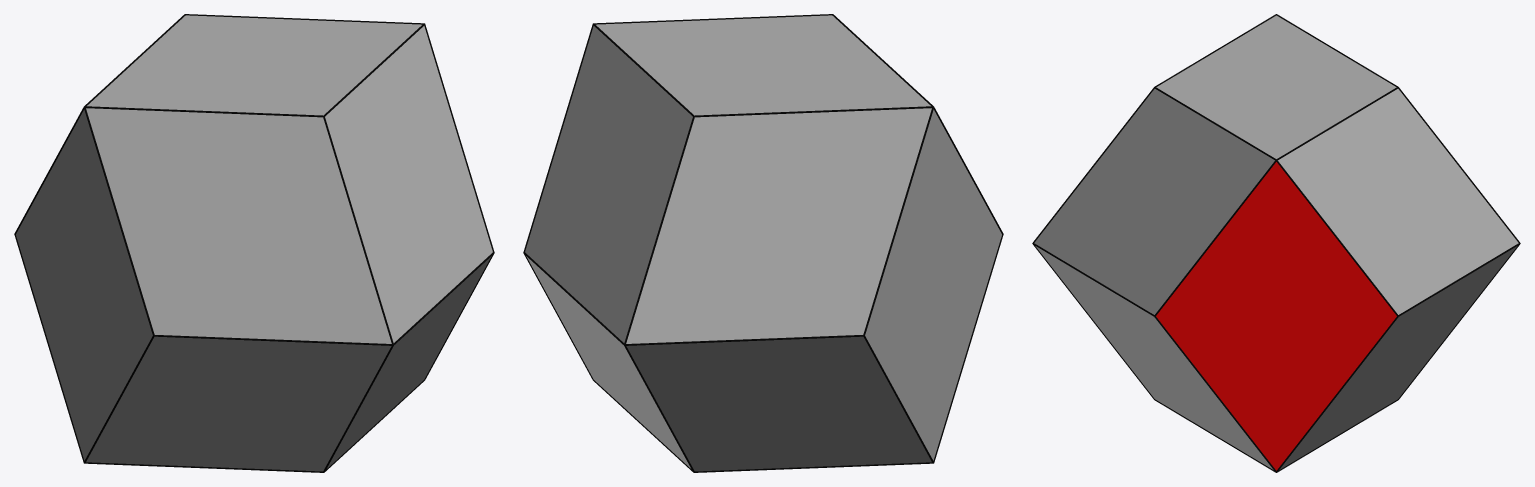
The model's file is RhombicDodecahedron1_1.glb.
3 renders of one model, left to right at view 1: azimuth 30°, elevation 25°; view 2: azimuth 150°, elevation 25°; view 3: azimuth 270°, elevation 25°, orthographic. The views are drawn at different scales.
Size of the model in its own units: 1.51 by 1.51 by 2.13.
